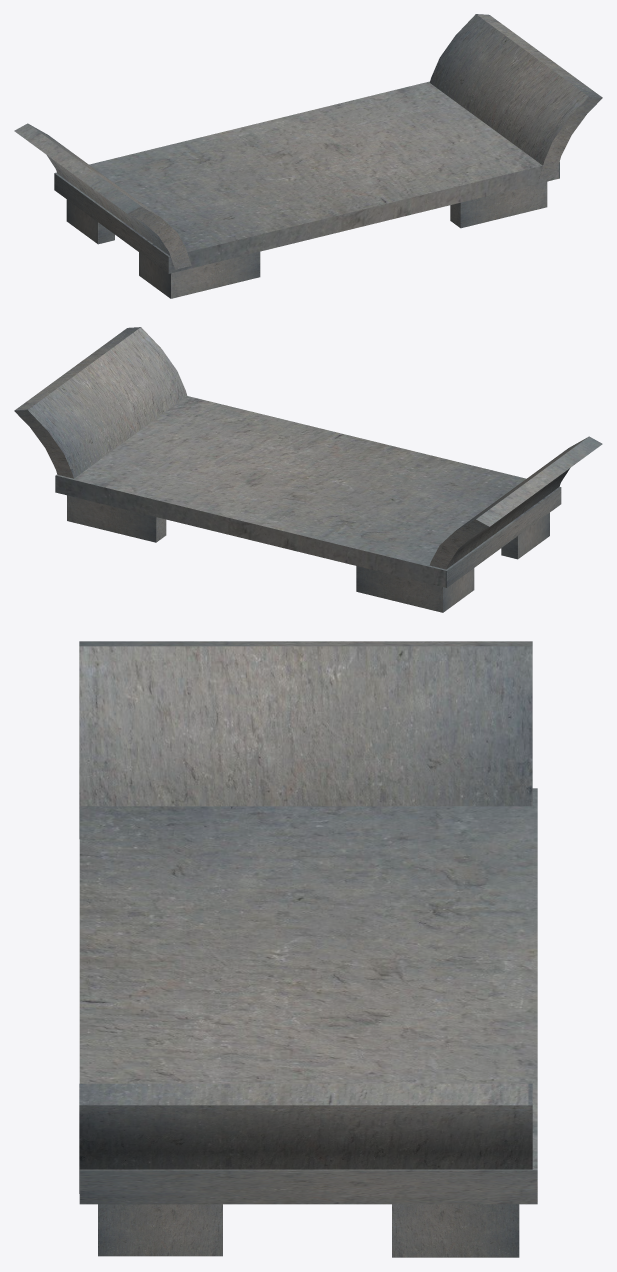
File: 汉代石案.FBX
3 renders of one model, top to bottom at view 1: azimuth 30°, elevation 25°; view 2: azimuth 150°, elevation 25°; view 3: azimuth 270°, elevation 25°, orthographic. The views are drawn at different scales.
Parts seen in each view (by area): view 1: Box001; view 2: Box001; view 3: Box001.
Part boxes in pixels (bbox=[...]): Box001: bbox=[14, 14, 602, 298]; Box001: bbox=[14, 327, 602, 612]; Box001: bbox=[79, 641, 537, 1257].
Bounding box in the file's own units: 95.38 × 20.04 × 39.82.
